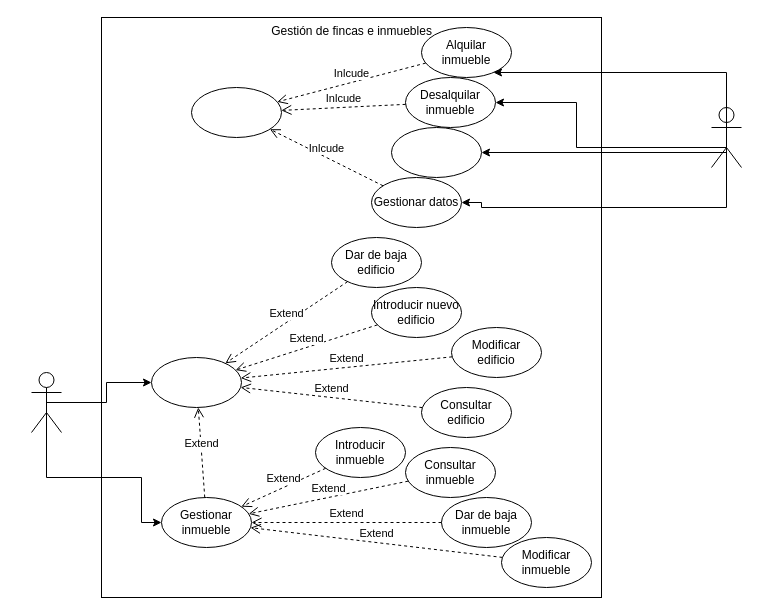
Some shapes in this 767 by 615 pixel diagram are drawn without their labels. Each missing label, with the box of its shape:
Darse de alta: (390, 126, 482, 178)
Gestionar edificio: (150, 356, 242, 408)
Hacer login: (190, 86, 282, 138)
INquilino: (710, 106, 742, 168)
Propietaria: (30, 372, 62, 432)
